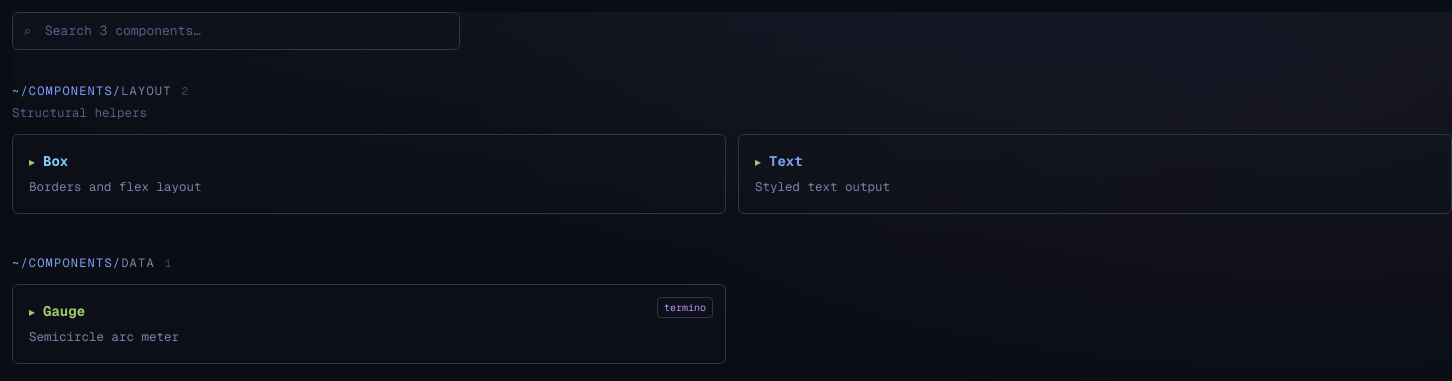
Test case: ComponentGallery › drops groups left with no matches
Type "gauge" into the field at x=236, y=31, box [12, 12, 460, 50]
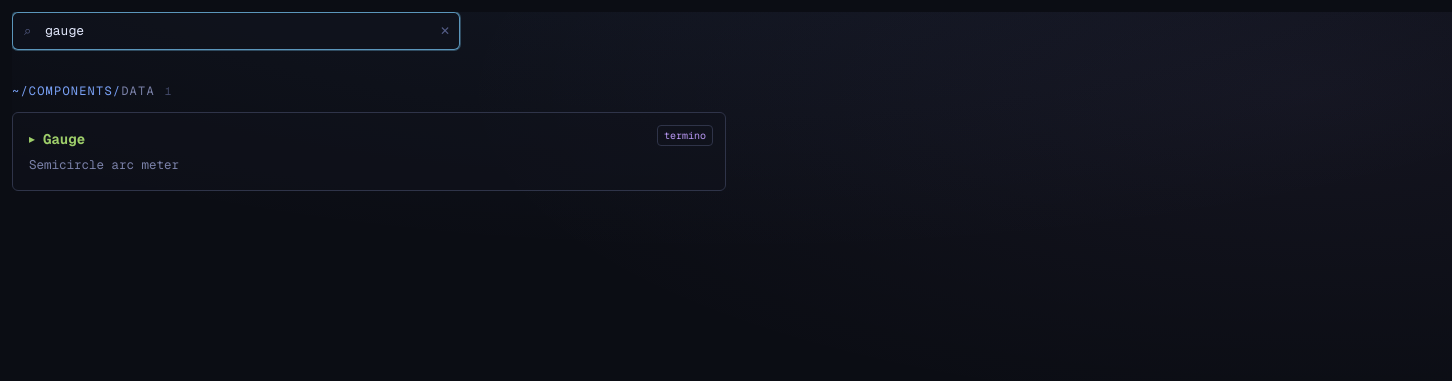
Expected: the heading "~/components/ data" is shown, [12, 82, 155, 100]
Now the heading "layout" is gone
